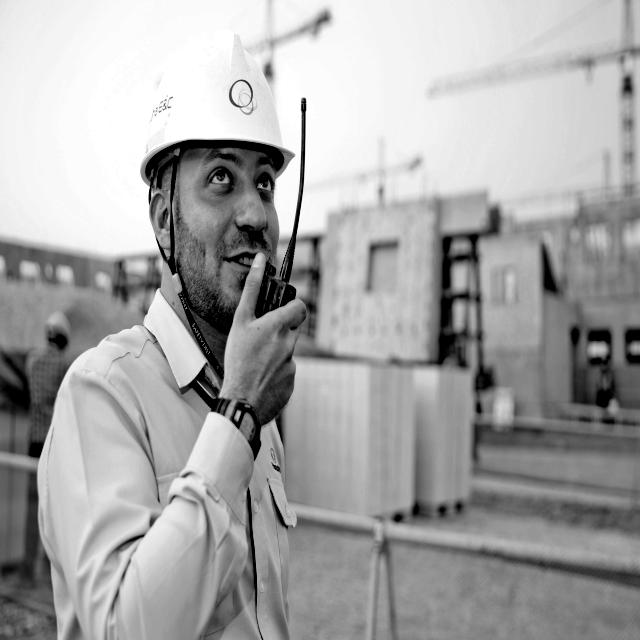No-Vest: (40, 344, 300, 640)
